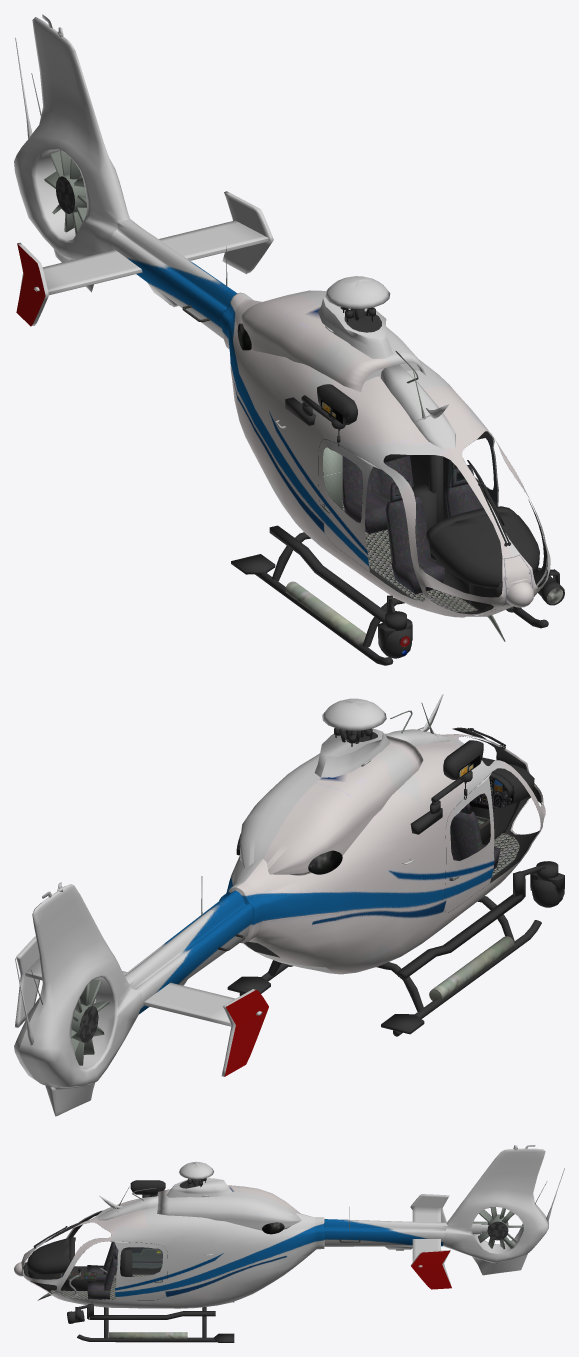
File: helicopter_base1.glb
3 views of the same model, one above another, from view 1: azimuth 30°, elevation 25°; view 2: azimuth 150°, elevation 25°; view 3: azimuth 270°, elevation 25° (orthographic). The views are drawn at different scales.
Parts seen in each view (by area): view 1: chassis_Mat_maverick.008_ec135.bmp_0; view 2: chassis_Mat_maverick.008_ec135.bmp_0; view 3: chassis_Mat_maverick.008_ec135.bmp_0.
Boxes of the visible parts, <box> form: chassis_Mat_maverick.008_ec135.bmp_0: <box>14,14,564,665</box>; chassis_Mat_maverick.008_ec135.bmp_0: <box>14,694,564,1116</box>; chassis_Mat_maverick.008_ec135.bmp_0: <box>14,1145,564,1342</box>.
Size of what is drawn, in the model's own units: 2.9 by 3.95 by 11.18.
2 materials, 2 textured.
